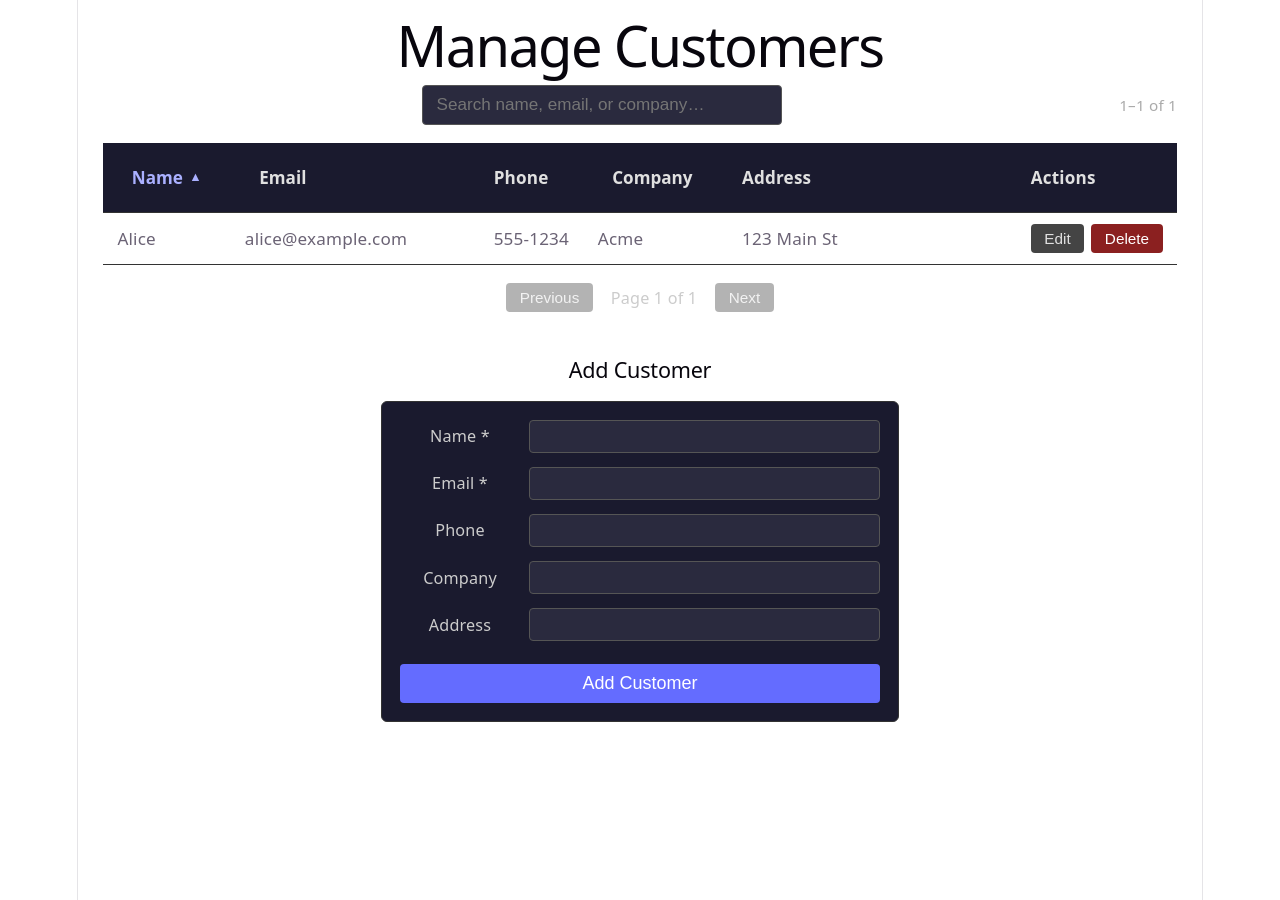
Test: Customers page › deletes a customer and refreshes the list
This screenshot has width=1280, height=900.
Expected: the text "Alice" is shown, [103,213,230,265]
Click the button "Delete": (1127, 239) [1091,224,1163,253]
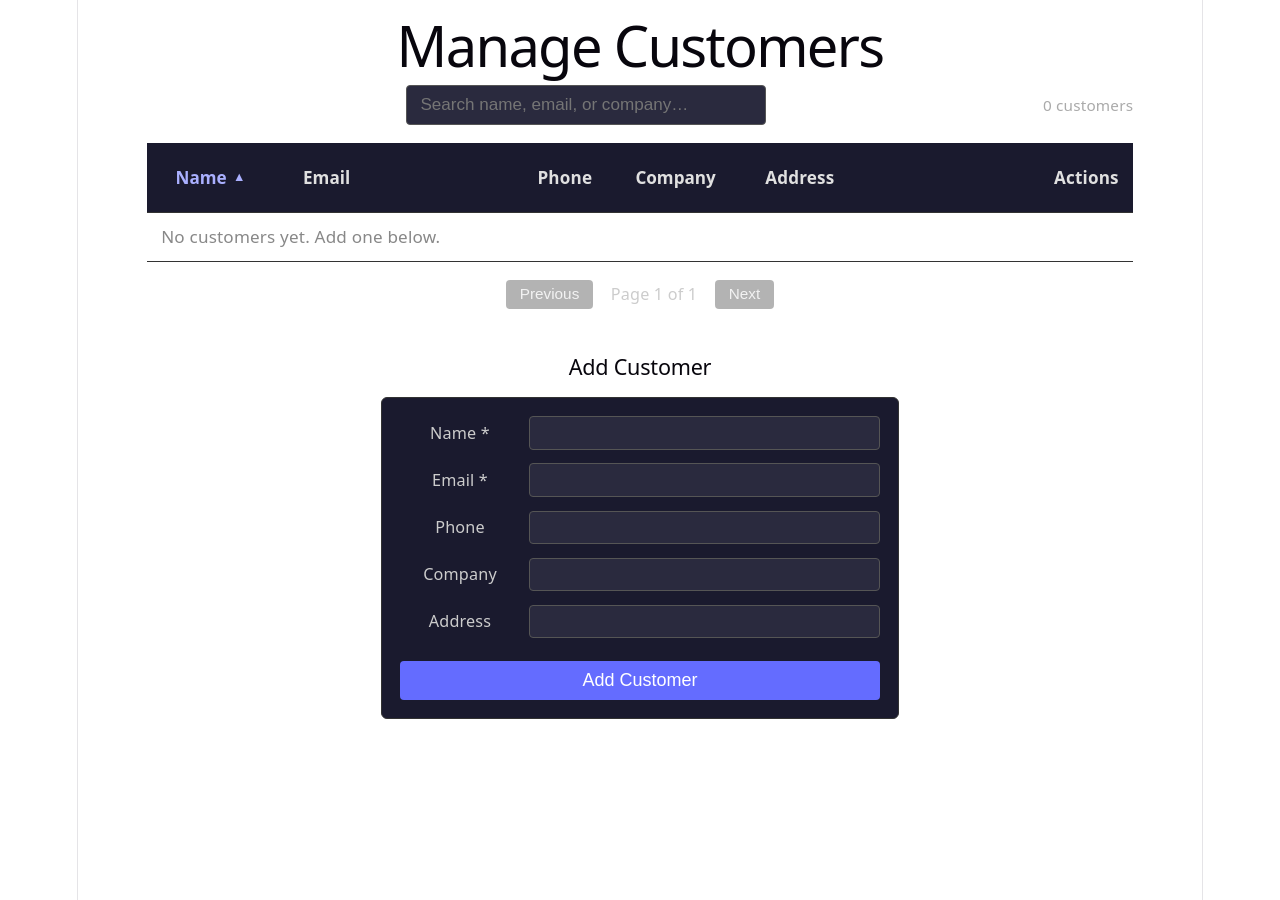
Now the text "No customers yet. Add one below." is shown, box [147,213,1133,262]
